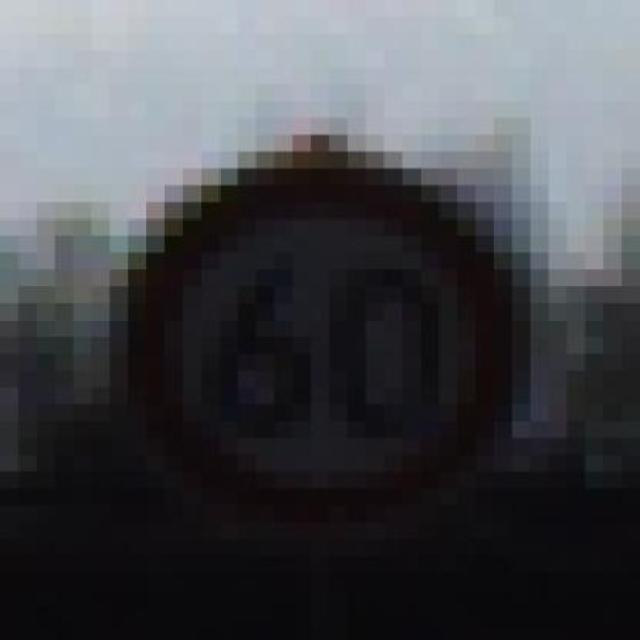forb_speed_over_60: (128, 160, 522, 515)
